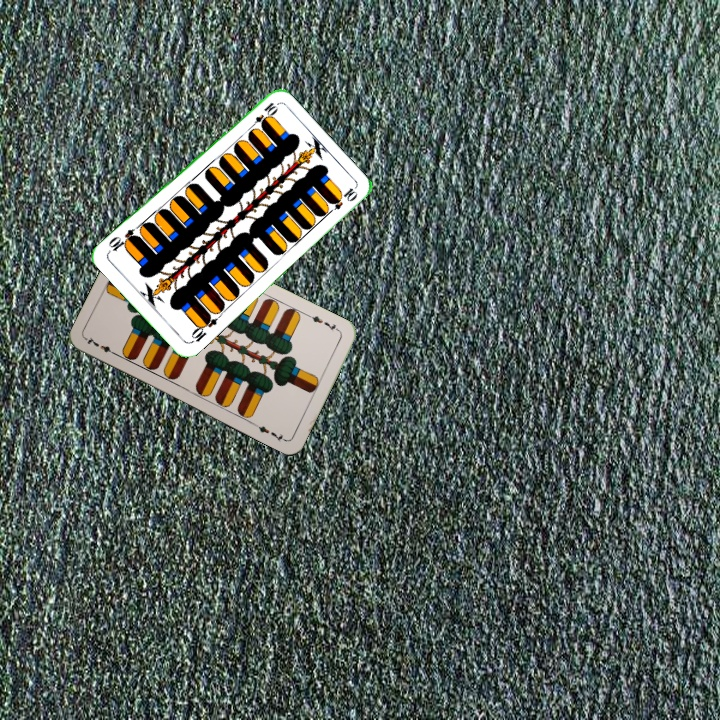E10: (187, 310, 220, 346), (246, 98, 280, 132)
E7: (82, 333, 120, 358), (304, 310, 342, 334)
